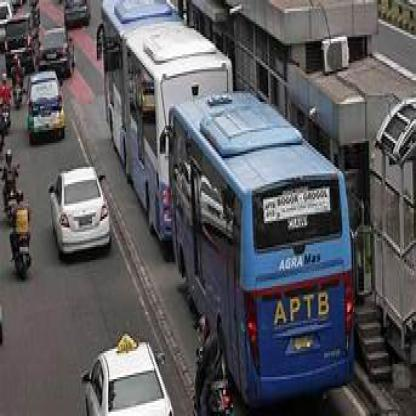bus: (170, 103, 355, 404), (97, 3, 219, 246)
car: (80, 339, 174, 415), (48, 172, 113, 263), (29, 75, 65, 148), (40, 29, 79, 79), (5, 16, 35, 75), (64, 5, 93, 27), (15, 62, 27, 114)
motorbike: (12, 196, 36, 287), (4, 151, 21, 216), (2, 79, 13, 135)
